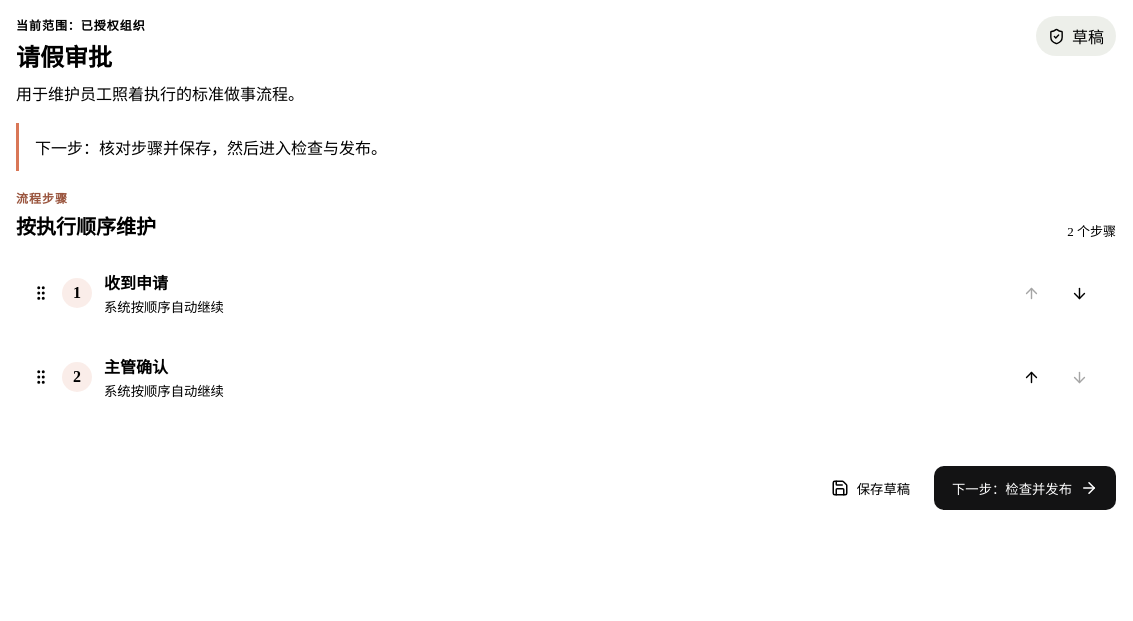
Scenario: workflow editing › shows a truthful comparison action on an optimistic conflict
Click the button "保存草稿": (870,488) [817, 466, 924, 510]
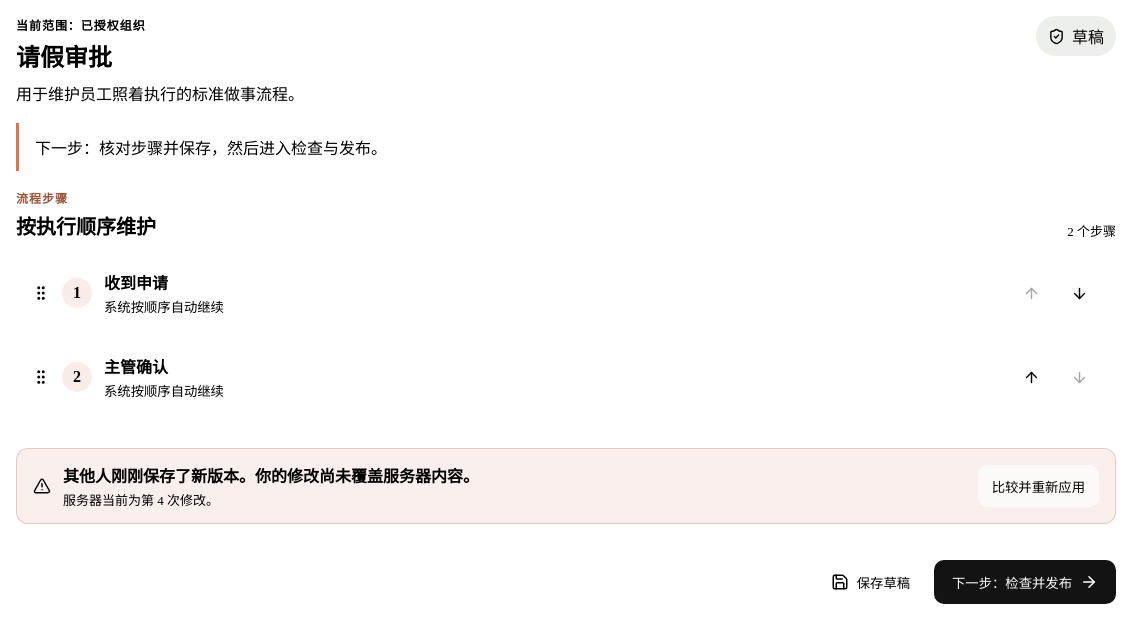
Expected: the text "其他人刚刚保存了新版本。你的修改尚未覆盖服务器内容。" is shown, [63, 468, 479, 485]
Expected: the button "比较并重新应用" is shown, [978, 465, 1099, 507]
